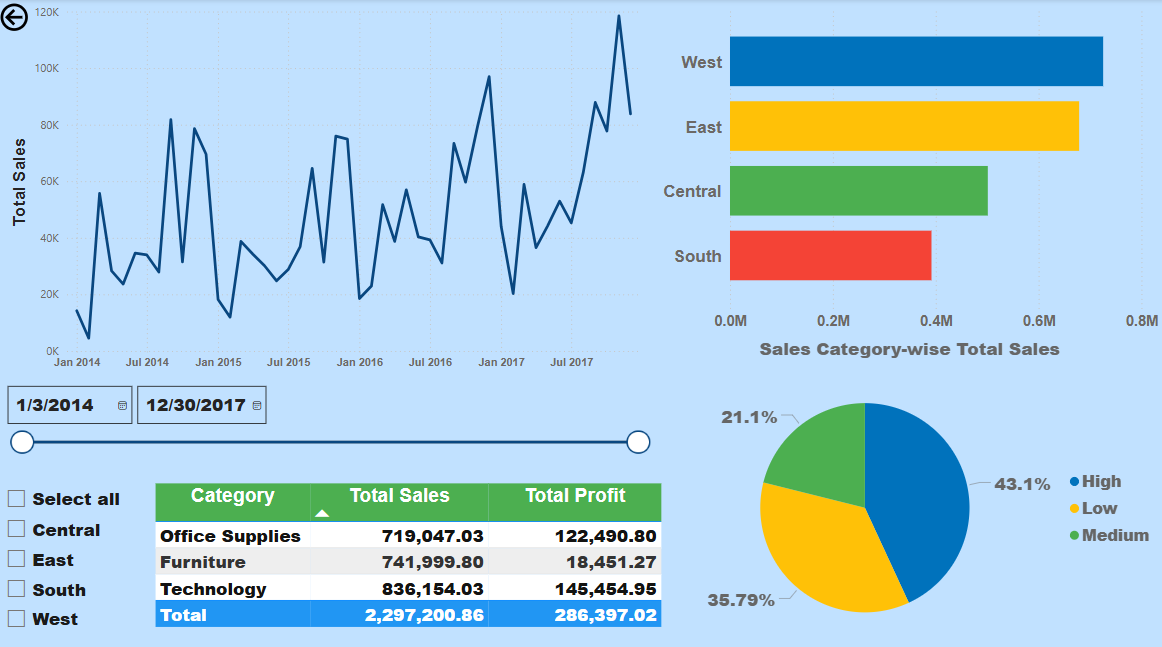

The dashboard page shown, as its layout file describes it:
{"tool":"powerbi","page":{"name":"Sales Analysis","canvas":[1280,720],"ordinal":3},"visuals":[{"type":"barChart","fields":{"Category":["Orders.Region"],"Y":["key Measures.Total Sales"]},"box":[725.9,0,554.4,370.5],"z":0},{"type":"lineChart","fields":{"Y":["key Measures.Total Sales"],"Category":["Date.Date.Variation.Date Hierarchy.Year","Date.Date.Variation.Date Hierarchy.Month"]},"box":[11.4,0,714.3,414.3],"z":1000},{"type":"tableEx","fields":{"Values":["Orders.Category","key Measures.Total Sales","key Measures.Total Profit"]},"box":[168.6,527.1,567.1,192.9],"z":2000},{"type":"slicer","fields":{"Values":["Date.Date"]},"box":[0,414.4,725.9,112.5],"z":3000},{"type":"slicer","fields":{"Values":["Orders.Region"]},"box":[0,527.1,168.6,192.9],"z":4000},{"type":"pieChart","title":"Sales Category-wise Total Sales","fields":{"Category":["Orders.Sales Category"],"Y":["key Measures.Total Sales"]},"box":[725.7,370,554.3,350],"z":5000},{"type":"actionButton","box":[0,0,100,40],"z":6000}]}

Visuals, with their boxes in screenshot pixels (x1, y1, x2, y2), scaled from the page's 1280x720 canvas onto the 1162x647 screenshot:
barChart - Orders.Region x key Measures.Total Sales: {"x1": 659, "y1": 0, "x2": 1161, "y2": 333}
lineChart - key Measures.Total Sales x Date.Date.Variation.Date Hierarchy.Year: {"x1": 10, "y1": 0, "x2": 659, "y2": 372}
tableEx - Orders.Category x key Measures.Total Sales: {"x1": 153, "y1": 474, "x2": 668, "y2": 646}
slicer - Date.Date: {"x1": 0, "y1": 372, "x2": 659, "y2": 473}
slicer - Orders.Region: {"x1": 0, "y1": 474, "x2": 153, "y2": 646}
"Sales Category-wise Total Sales" pieChart: {"x1": 659, "y1": 332, "x2": 1161, "y2": 646}
actionButton: {"x1": 0, "y1": 0, "x2": 91, "y2": 36}
